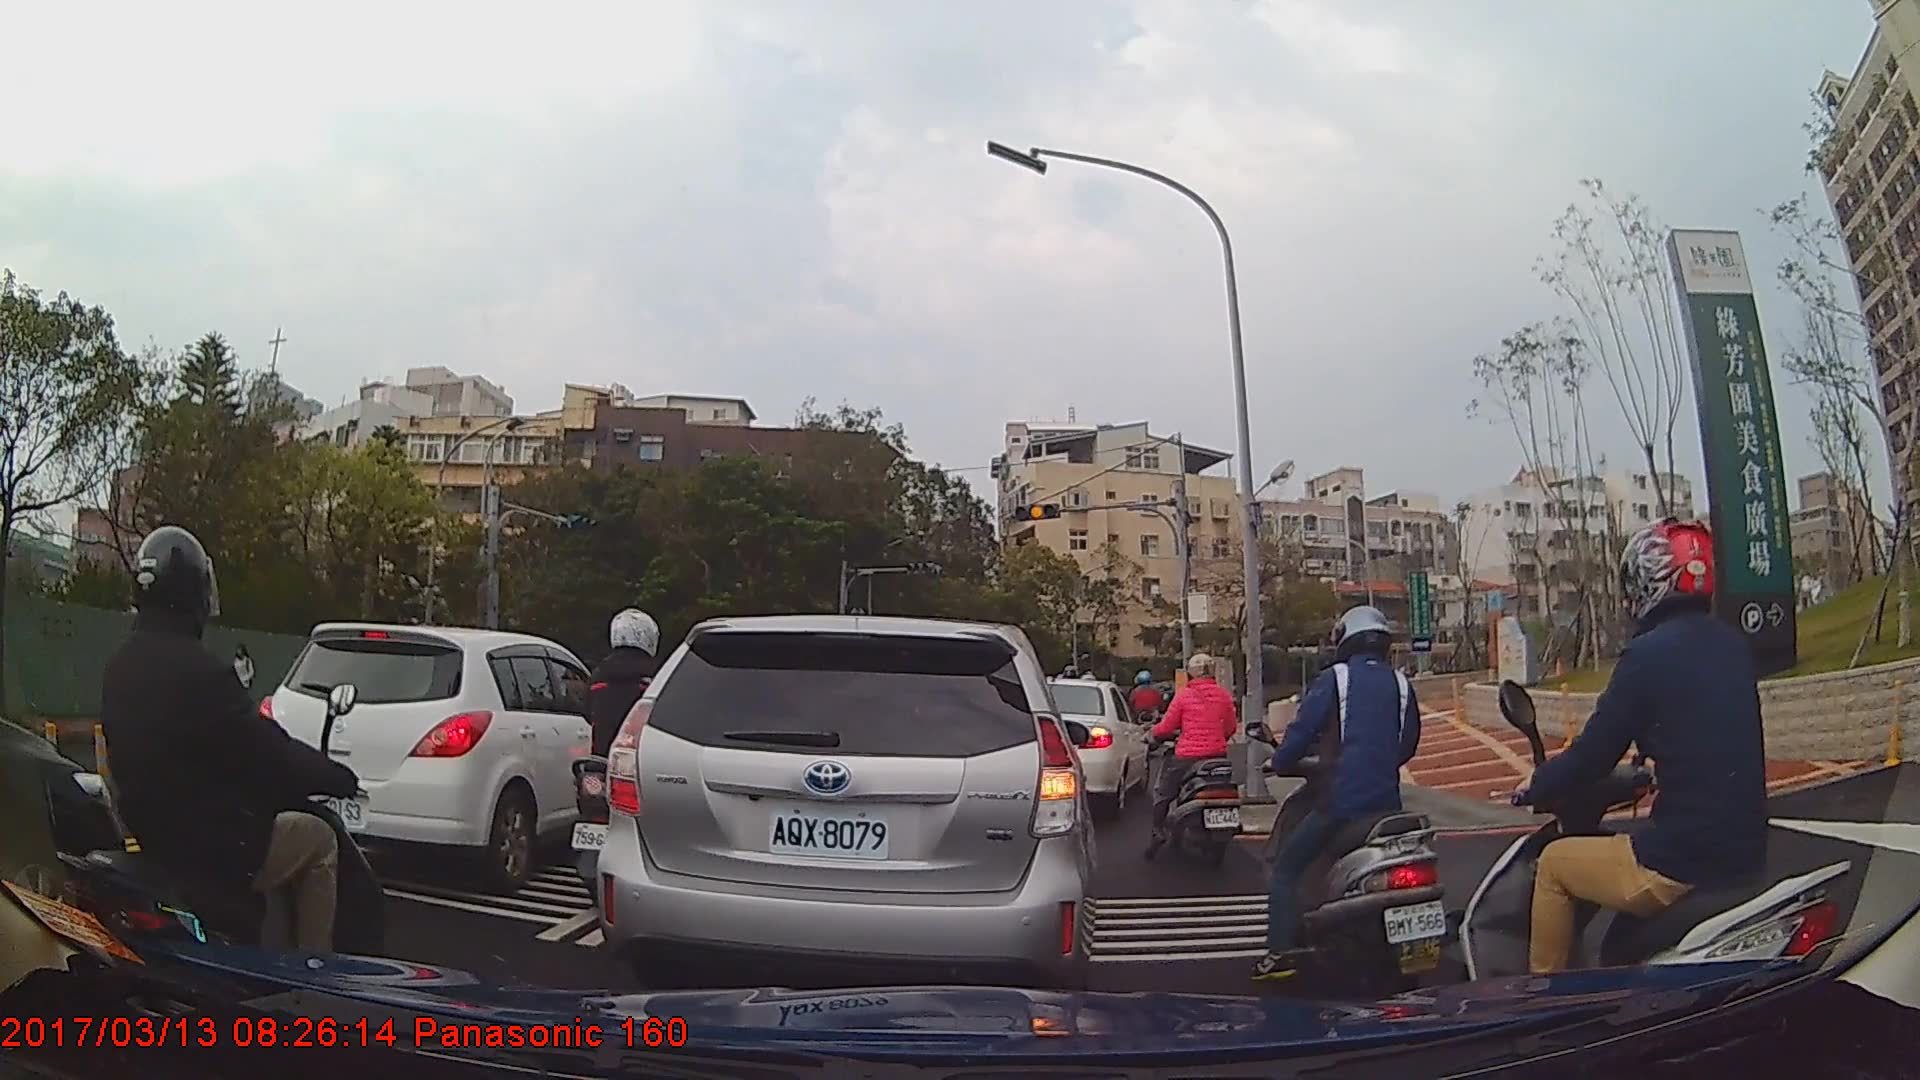pedestrian: (224, 645, 260, 723)
rider: (1456, 518, 1859, 1057), (30, 524, 387, 1073), (1246, 606, 1450, 999), (567, 605, 703, 921), (1137, 652, 1245, 865), (1126, 669, 1167, 763)
vehicle: (600, 609, 1098, 988), (260, 621, 644, 884), (1044, 677, 1151, 816)
